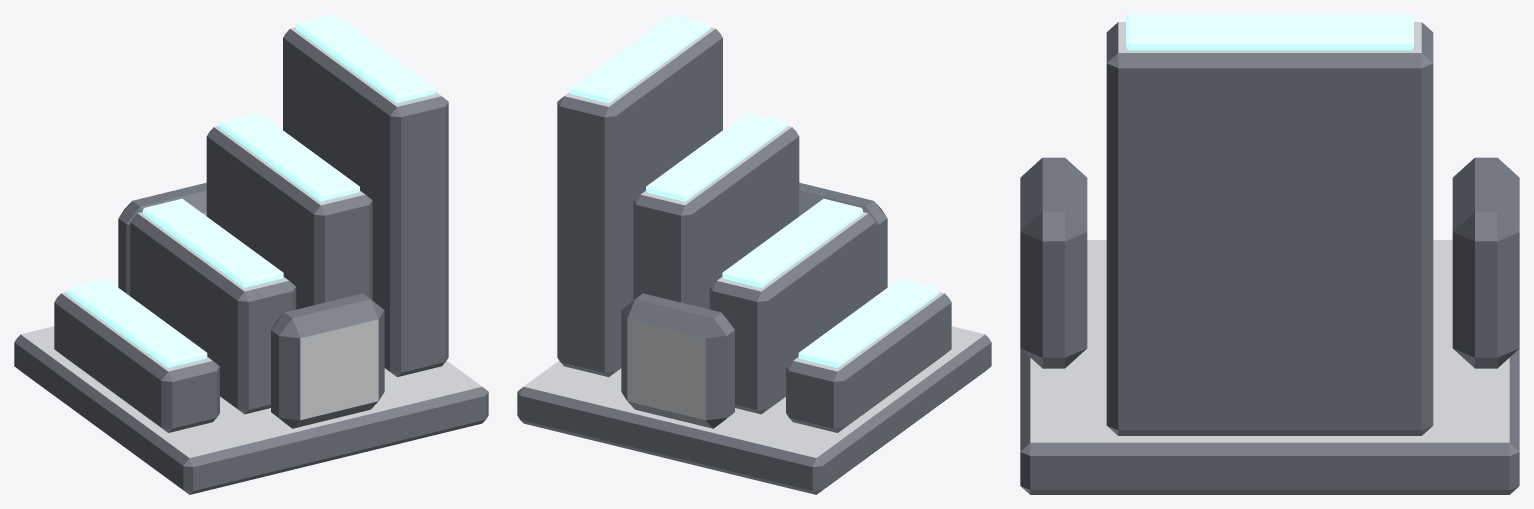
The model's file is R4X_ModuleAmplifier_LOD1.fbx.
3 renders of one model, left to right at view 1: azimuth 30°, elevation 25°; view 2: azimuth 150°, elevation 25°; view 3: azimuth 270°, elevation 25°, orthographic. The views are drawn at different scales.
Visible parts, largest first — view 1: R4X_ModuleAmplifier_LOD1; view 2: R4X_ModuleAmplifier_LOD1; view 3: R4X_ModuleAmplifier_LOD1.
Boxes of the visible parts, bbox=[...] form: R4X_ModuleAmplifier_LOD1: bbox=[14, 14, 488, 494]; R4X_ModuleAmplifier_LOD1: bbox=[517, 14, 991, 494]; R4X_ModuleAmplifier_LOD1: bbox=[1020, 14, 1519, 494].
Size of the model in its own units: 0.52 by 0.512 by 0.52.
